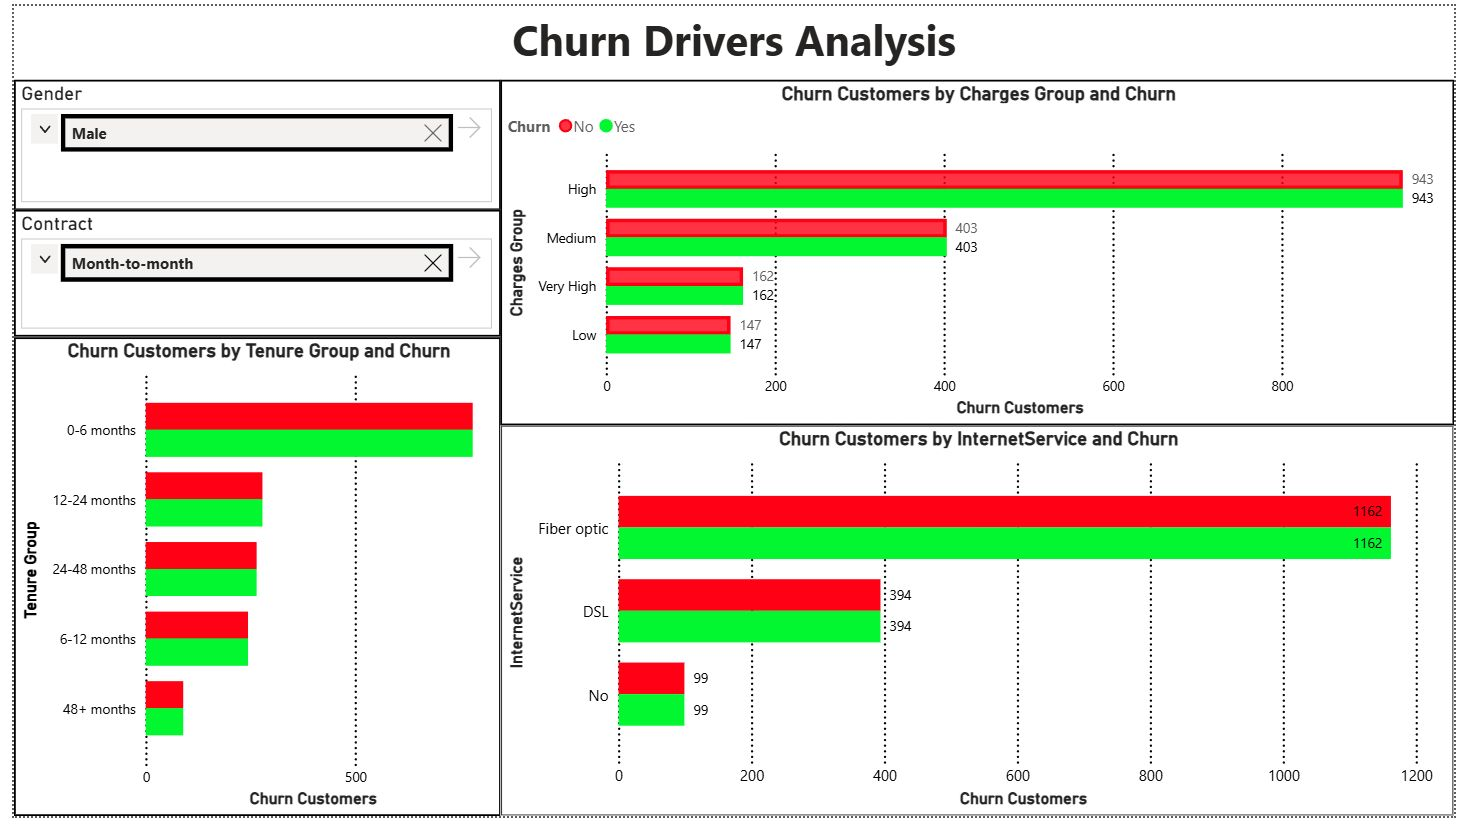

This screenshot's page, from the dashboard's own definition file:
{"tool":"powerbi","page":{"name":"Churn Analysis","canvas":[1280,720],"ordinal":1},"visuals":[{"type":"clusteredBarChart","fields":{"Y":["Telco-Customer-Churn.Churn Customers"],"Category":["Telco-Customer-Churn.Tenure Group"],"Series":["Telco-Customer-Churn.Churn"]},"box":[0,294.2,432.6,425.6],"z":0},{"type":"clusteredBarChart","fields":{"Category":["Telco-Customer-Churn.InternetService"],"Y":["Telco-Customer-Churn.Churn Customers"],"Series":["Telco-Customer-Churn.Churn"]},"box":[432.6,372.1,847.7,347.7],"z":1000},{"type":"clusteredBarChart","fields":{"Series":["Telco-Customer-Churn.Churn"],"Category":["Telco-Customer-Churn.Charges Group"],"Y":["Telco-Customer-Churn.Churn Customers"]},"box":[432.6,65.1,847.7,307],"z":2000},{"type":"textSlicer","fields":{"Values":["Telco-Customer-Churn.gender"]},"box":[0,65.1,432.6,116.3],"z":3000},{"type":"textSlicer","fields":{"Values":["Telco-Customer-Churn.Contract"]},"box":[0,181.4,432.6,112.8],"z":4000},{"type":"textbox","box":[0,0,1280.2,65.1],"z":5000}]}

Visuals, with their boxes in screenshot pixels (x1, y1, x2, y2), scaled from the page's 1280x720 canvas onto the 1464x835 screenshot:
clusteredBarChart - Telco-Customer-Churn.Churn Customers x Telco-Customer-Churn.Tenure Group: select_region(0, 341, 495, 834)
clusteredBarChart - Telco-Customer-Churn.InternetService x Telco-Customer-Churn.Churn Customers: select_region(495, 432, 1463, 834)
clusteredBarChart - Telco-Customer-Churn.Churn x Telco-Customer-Churn.Charges Group: select_region(495, 75, 1463, 432)
textSlicer - Telco-Customer-Churn.gender: select_region(0, 75, 495, 210)
textSlicer - Telco-Customer-Churn.Contract: select_region(0, 210, 495, 341)
textbox: select_region(0, 0, 1463, 75)
